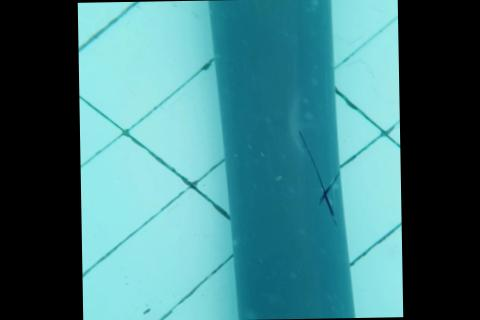keretakan: (298, 126, 344, 225)
